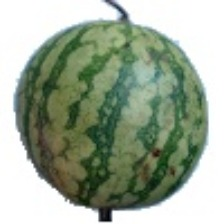watermelon: (0, 11, 184, 207)
